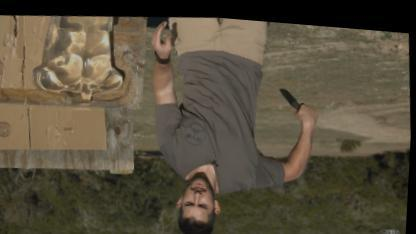knife: (276, 76, 324, 120)
